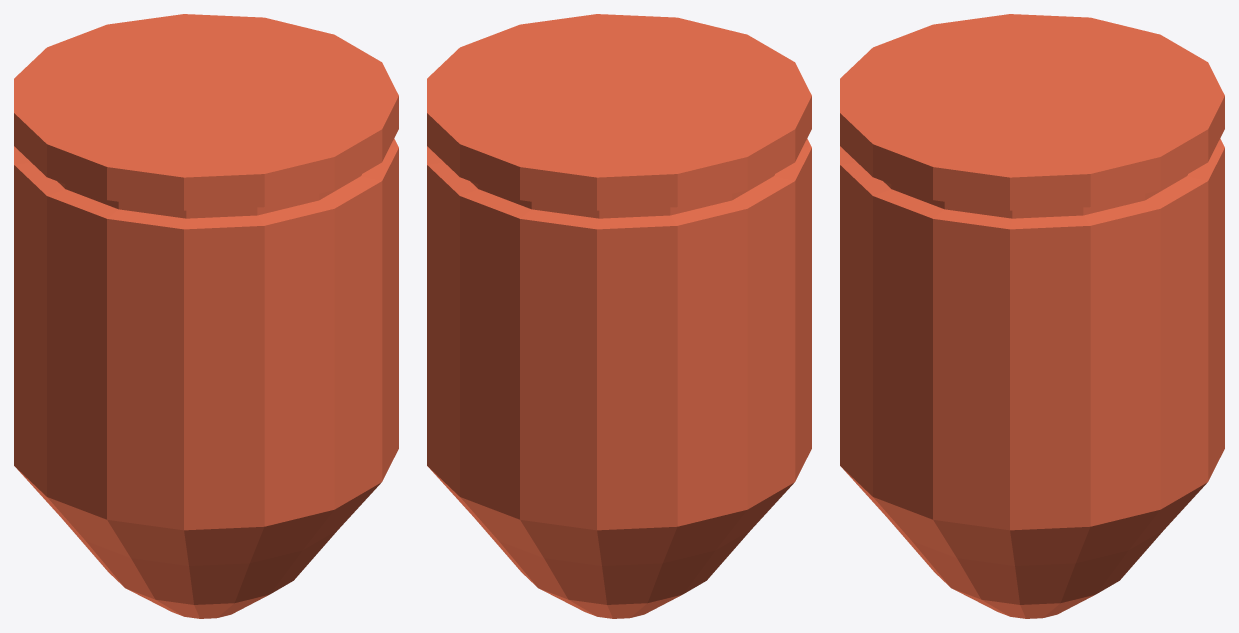
File: lowpolly_bullet.fbx
The picture shows the model from 3 angles, left to right: view 1: azimuth 30°, elevation 25°; view 2: azimuth 150°, elevation 25°; view 3: azimuth 270°, elevation 25°; orthographic projection.
Parts seen in each view (by area): view 1: Cylinder; view 2: Cylinder; view 3: Cylinder.
Boxes of the visible parts, left/top/right/bottom form: Cylinder: left=14, top=14, right=398, bottom=618; Cylinder: left=427, top=14, right=811, bottom=618; Cylinder: left=840, top=14, right=1224, bottom=618.
Size of the model in its own units: 30.71 by 44.32 by 30.54.
